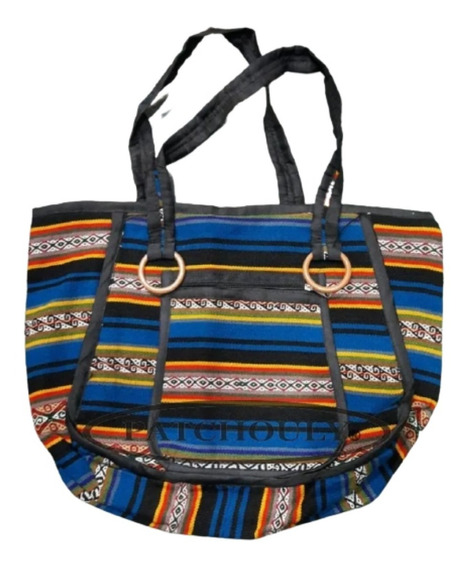cartera: (24, 24, 445, 541)
